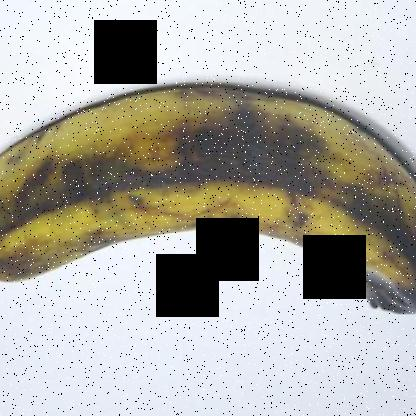overripe: (0, 70, 415, 341)
